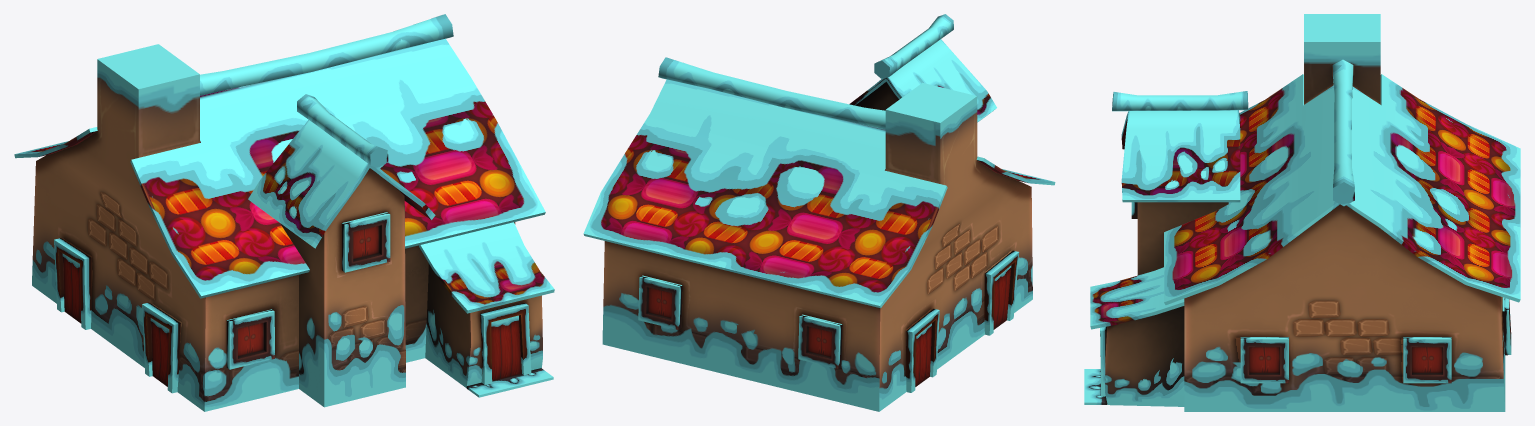
File: House7.FBX
3 renders of one model, left to right at view 1: azimuth 30°, elevation 25°; view 2: azimuth 150°, elevation 25°; view 3: azimuth 270°, elevation 25°, orthographic. The views are drawn at different scales.
Parts seen in each view (by area): view 1: House7; view 2: House7; view 3: House7.
Boxes of the visible parts, left/top/right/bottom form: House7: left=14, top=14, right=554, bottom=411; House7: left=583, top=14, right=1055, bottom=411; House7: left=1084, top=14, right=1520, bottom=411.
Size of the model in its own units: 204 by 154 by 237.
1 material, 1 textured.
